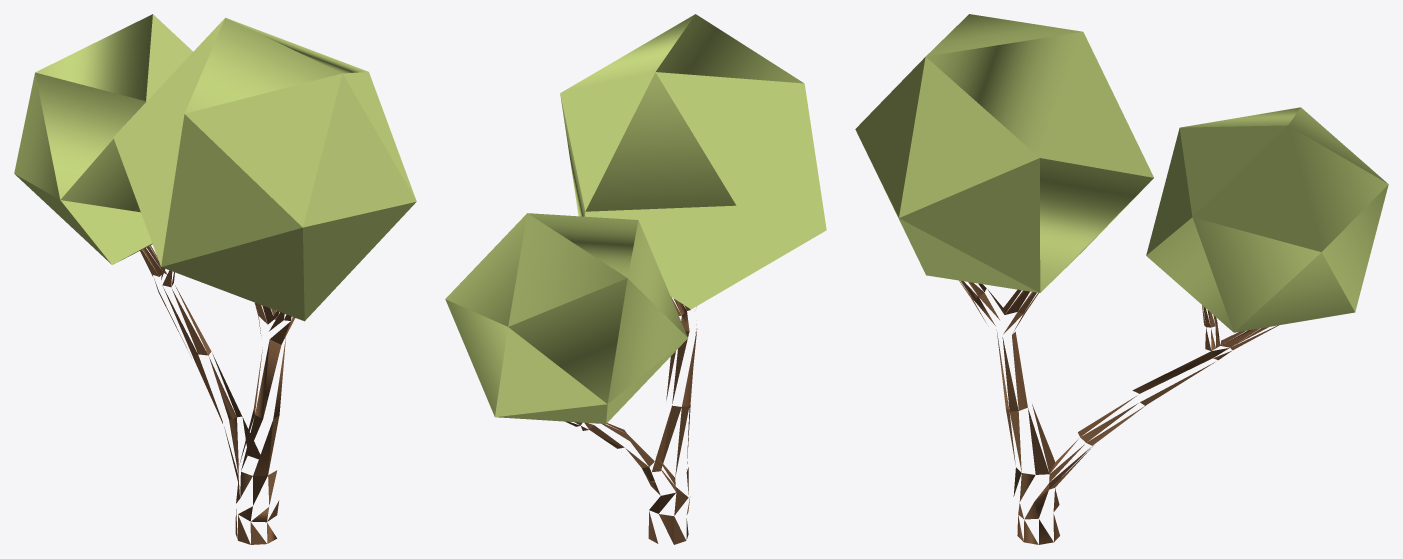
File: prop_s_tree3.glb
3 views of the same model, side by side, from view 1: azimuth 30°, elevation 25°; view 2: azimuth 150°, elevation 25°; view 3: azimuth 270°, elevation 25° (orthographic). The views are drawn at different scales.
Visible parts, largest first — view 1: Tree3; view 2: Tree3; view 3: Tree3.
Part boxes in pixels (bbox=[...]): Tree3: bbox=[14, 14, 416, 544]; Tree3: bbox=[445, 14, 826, 544]; Tree3: bbox=[855, 14, 1388, 544].
Bounding box in the file's own units: 2.06 × 4.08 × 3.95.
